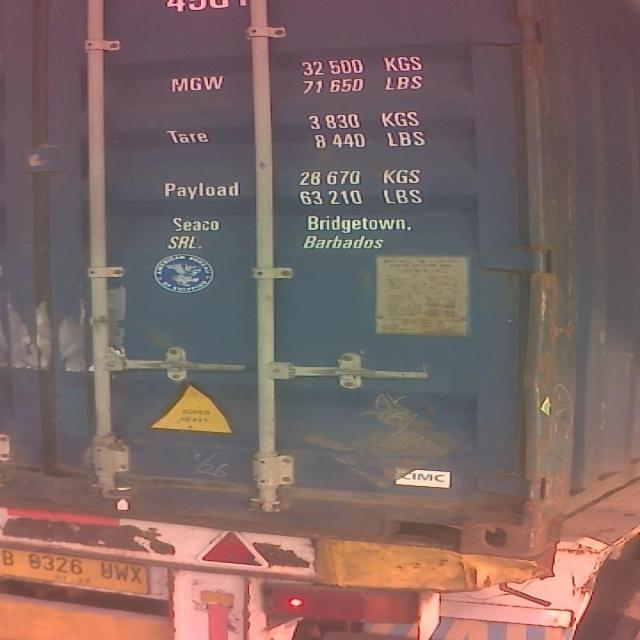seal: (109, 481, 145, 517)
